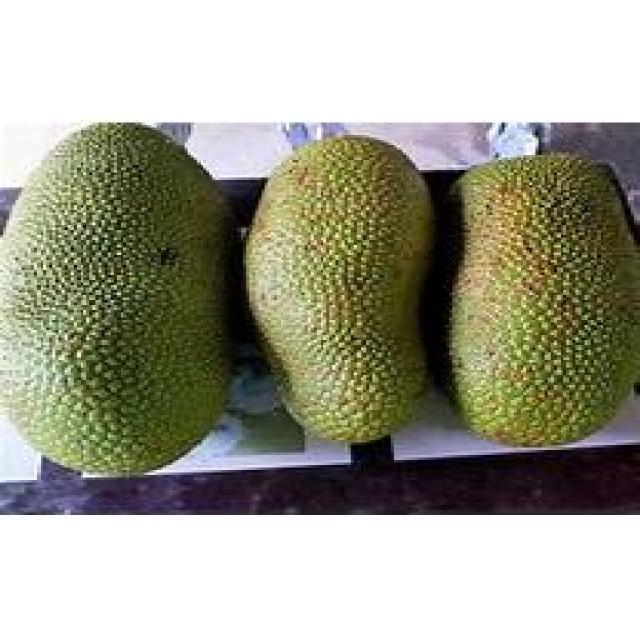Fruit: (0, 119, 255, 482), (222, 125, 456, 463), (427, 142, 640, 457)
